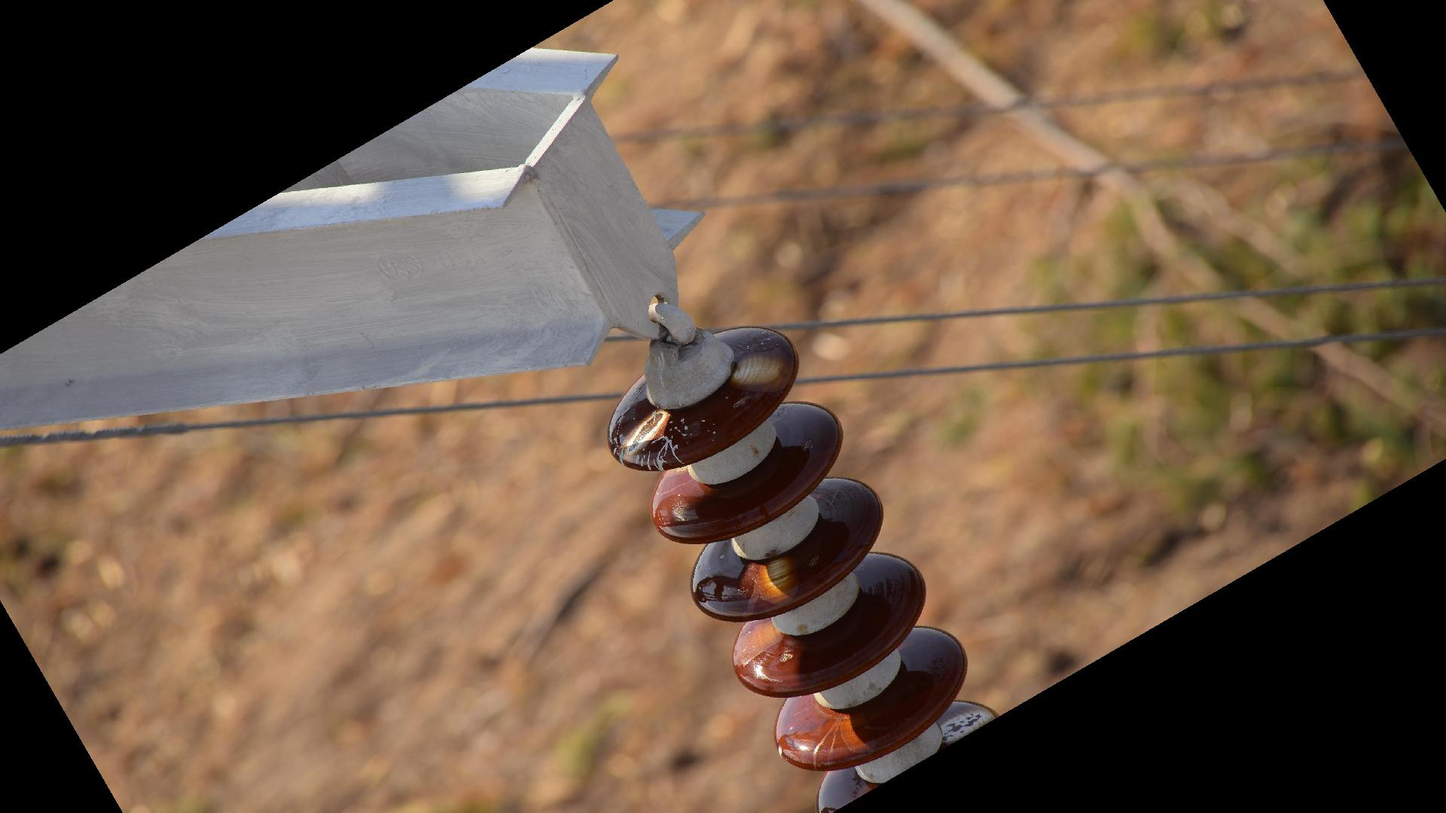insulator: (602, 317, 1002, 813)
insulator_flashover: (618, 405, 673, 461), (751, 549, 799, 610), (725, 347, 786, 389)
